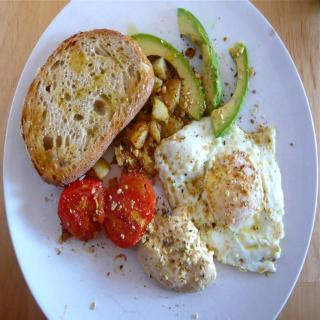tomato: (102, 172, 156, 249), (57, 179, 109, 242)
